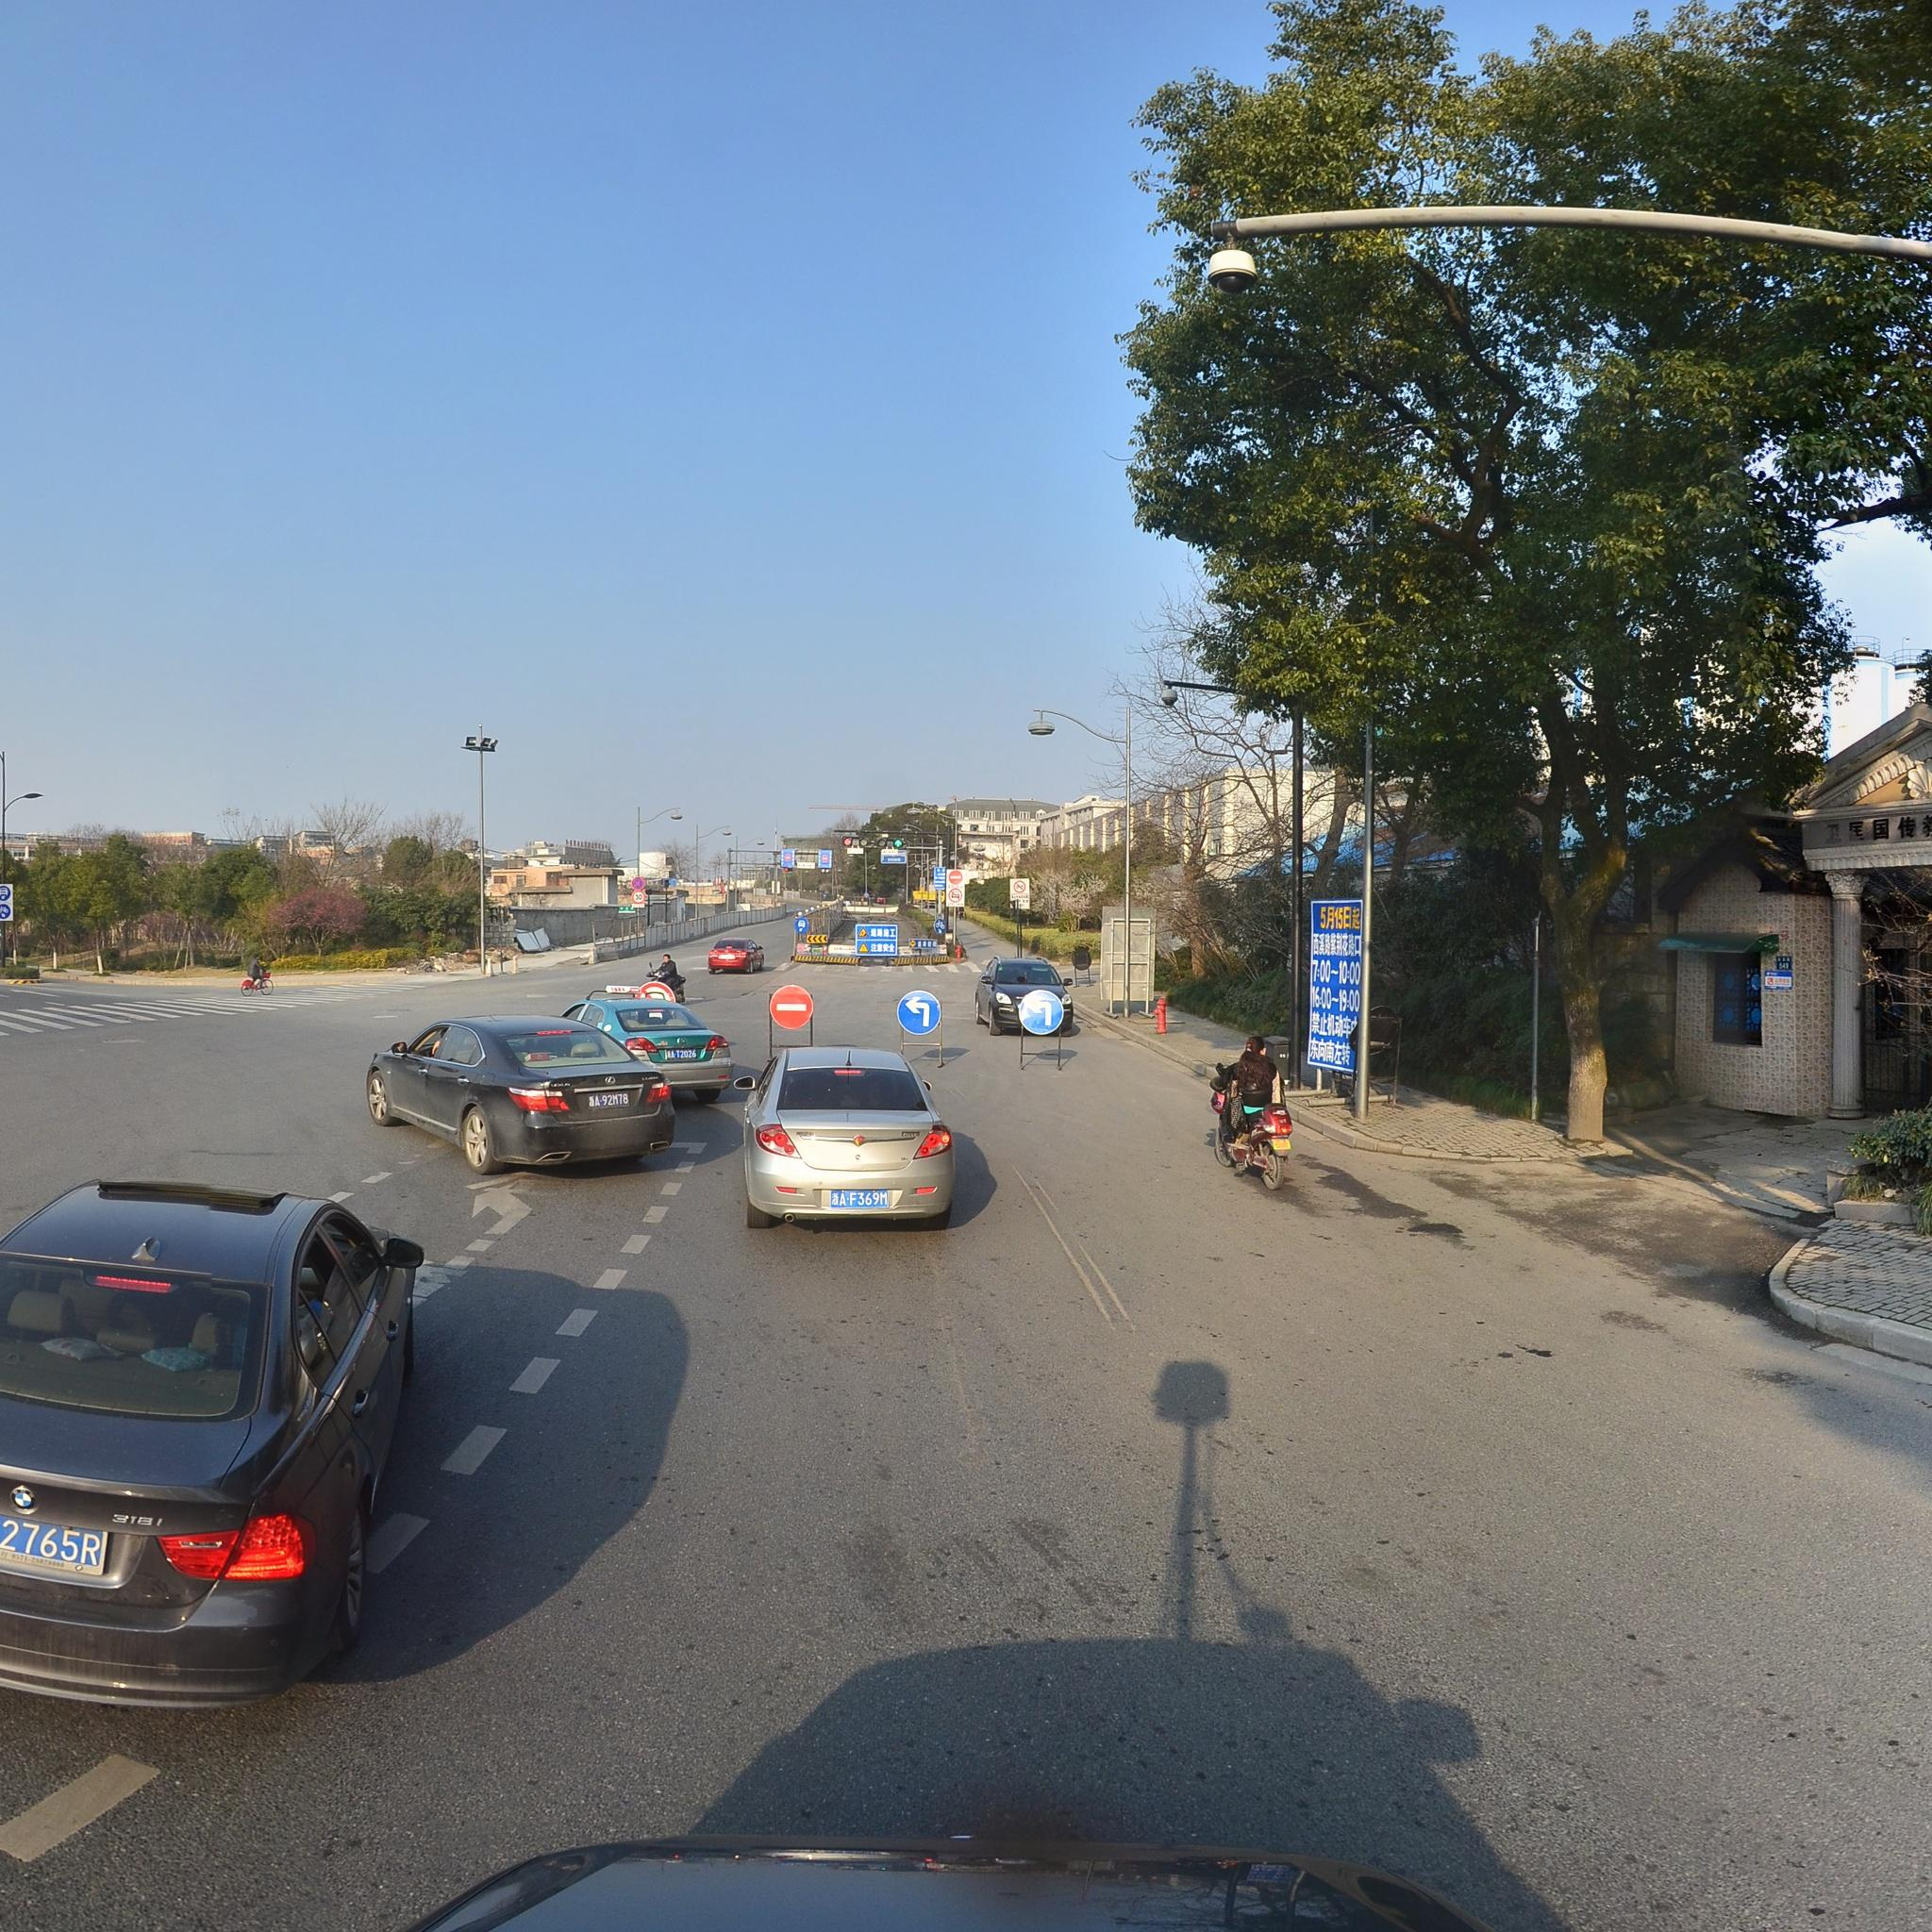p10: (950, 890, 962, 904)
pl30: (633, 892, 646, 904)
pn: (630, 876, 646, 892)
pne: (770, 987, 814, 1028), (950, 869, 964, 886)
